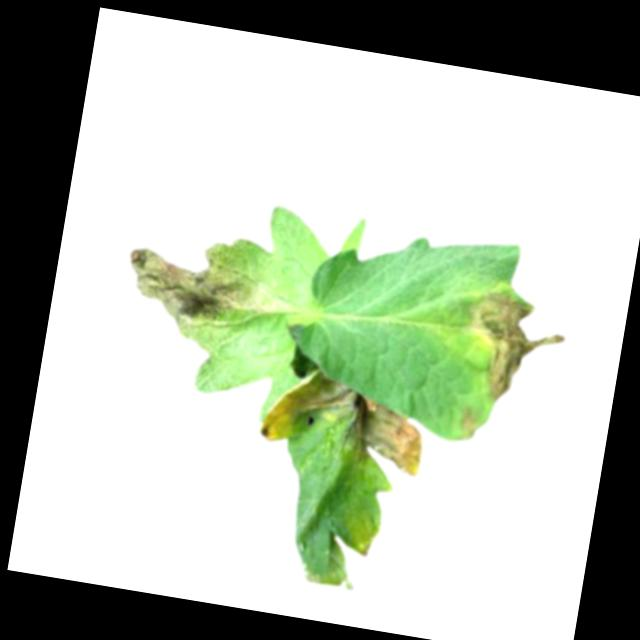Late_blight: (255, 361, 434, 480), (117, 221, 279, 350), (452, 286, 574, 410), (455, 407, 481, 443)
